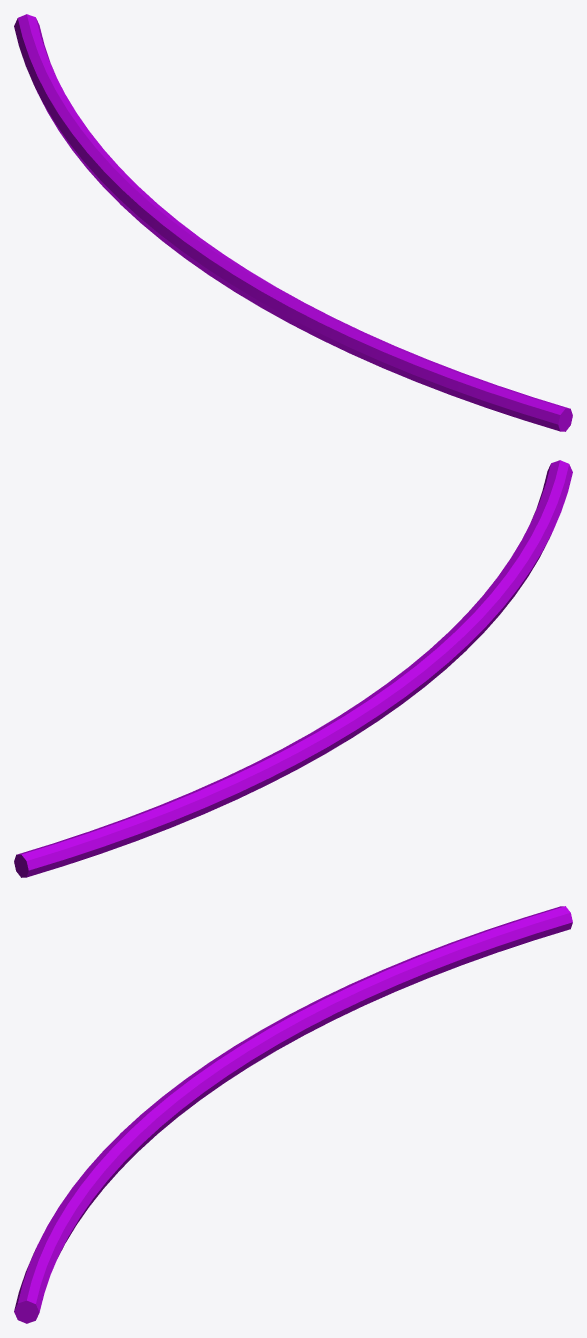
File: Rope_01.fbx
3 views of the same model, one above another, from view 1: azimuth 30°, elevation 25°; view 2: azimuth 150°, elevation 25°; view 3: azimuth 330°, elevation 25° (orthographic).
Parts seen in each view (by area): view 1: Rope_01; view 2: Rope_01; view 3: Rope_01.
Part boxes in pixels (box(x1,y1,x2,y2)): Rope_01: box(14, 14, 572, 431); Rope_01: box(14, 460, 572, 877); Rope_01: box(14, 906, 572, 1323).
Bounding box in the file's own units: 75.89 × 13.56 × 574.
